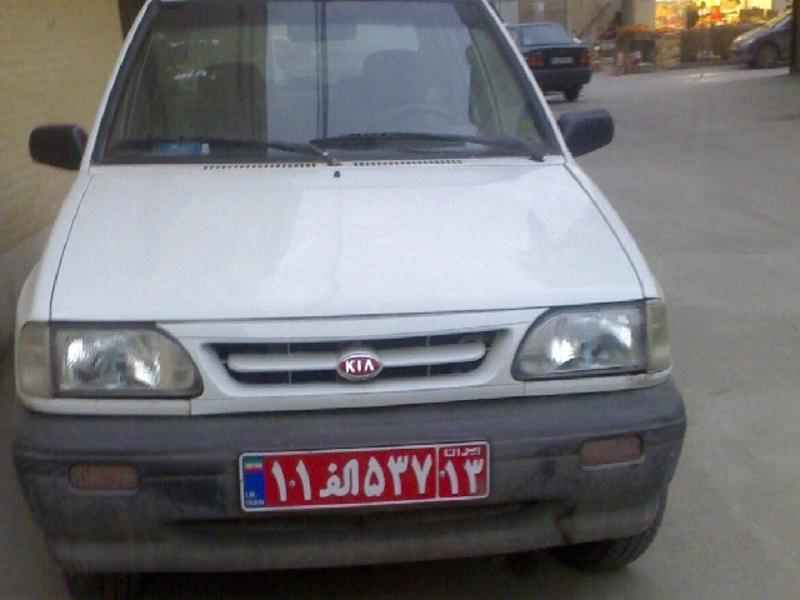Plate: (241, 451, 482, 505)
